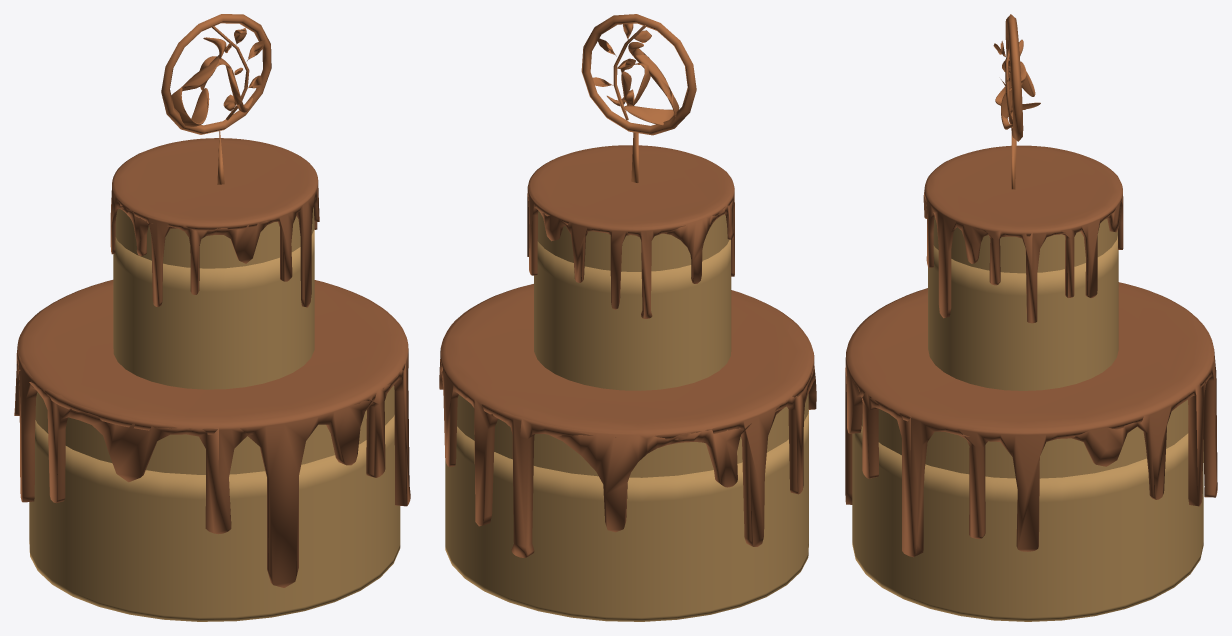
The model's file is 2-tier-caramel-ganache-ring.glb.
The picture shows the model from 3 angles, left to right: view 1: azimuth 30°, elevation 25°; view 2: azimuth 150°, elevation 25°; view 3: azimuth 270°, elevation 25°; orthographic projection. The views are drawn at different scales.
Parts seen in each view (by area): view 1: Cylinder.023, tHE ICING.004, Cylinder.013, tHE ICING.003, Cylinder.011; view 2: Cylinder.023, tHE ICING.004, Cylinder.013, tHE ICING.003, Cylinder.011; view 3: Cylinder.023, tHE ICING.004, Cylinder.013, tHE ICING.003, Cylinder.011.
Part boxes in pixels (x1,y1,x2,y2): Cylinder.023: (29,385,400,621); tHE ICING.004: (14,280,410,587); Cylinder.013: (113,207,314,389); tHE ICING.003: (110,138,319,307); Cylinder.011: (161,14,271,184); Cylinder.023: (445,393,808,621); tHE ICING.004: (439,284,816,557); Cylinder.013: (534,211,731,390); tHE ICING.003: (527,145,734,318); Cylinder.011: (581,14,696,182); Cylinder.023: (852,400,1203,621); tHE ICING.004: (845,282,1217,557); Cylinder.013: (928,216,1118,390); tHE ICING.003: (923,145,1123,323); Cylinder.011: (993,14,1040,189).
Bounding box in the file's own units: 3.53 × 5.36 × 3.46.
